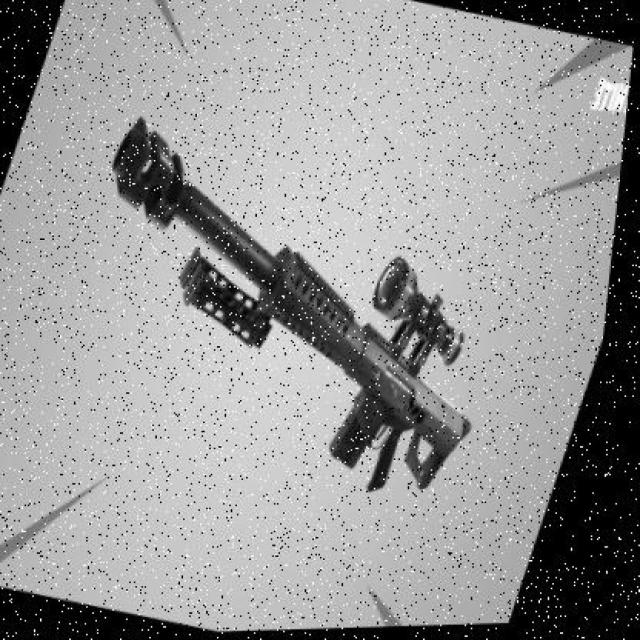weapon: (111, 114, 474, 495)
